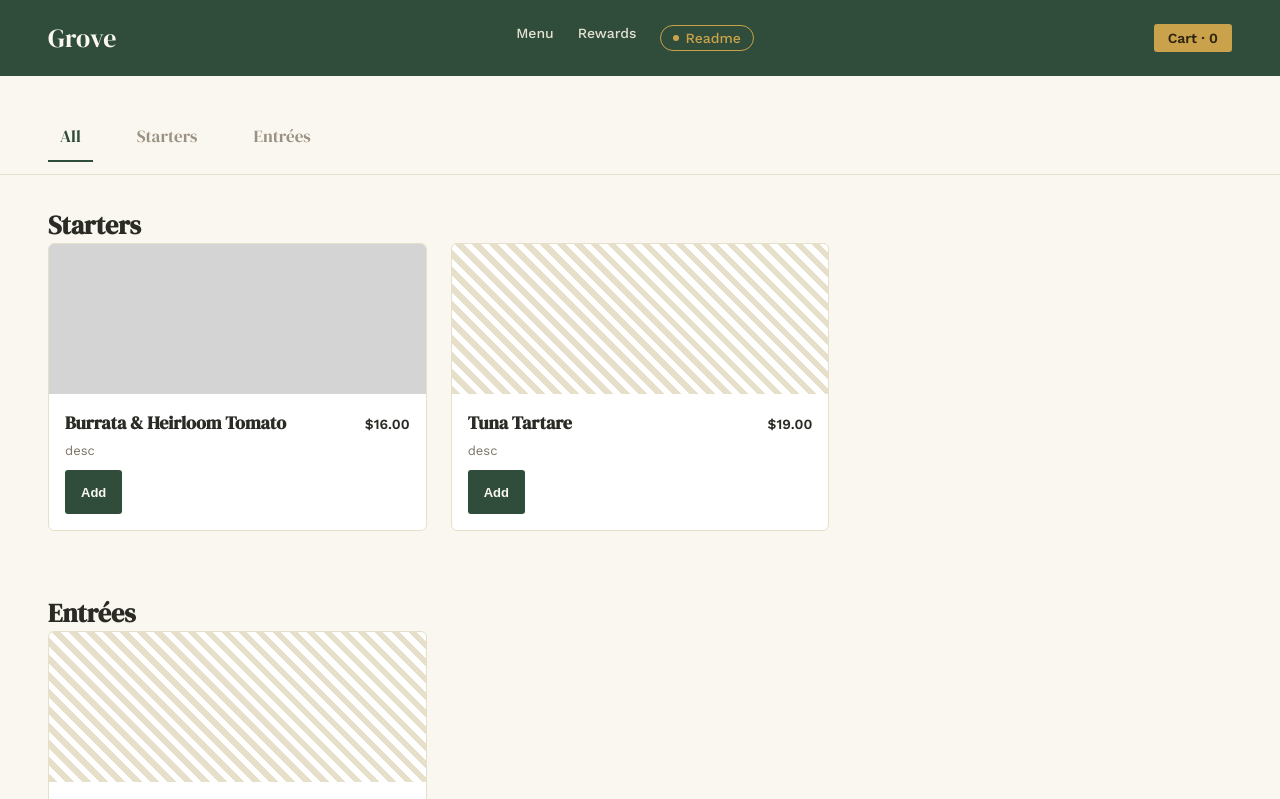
Test: MenuView › narrows to a flat single-category grid when a category tab is selected, with no headings
Step 1. Click the button with class "tab" showing "Entrées" → (282, 137), box 242,112 -> 323,162
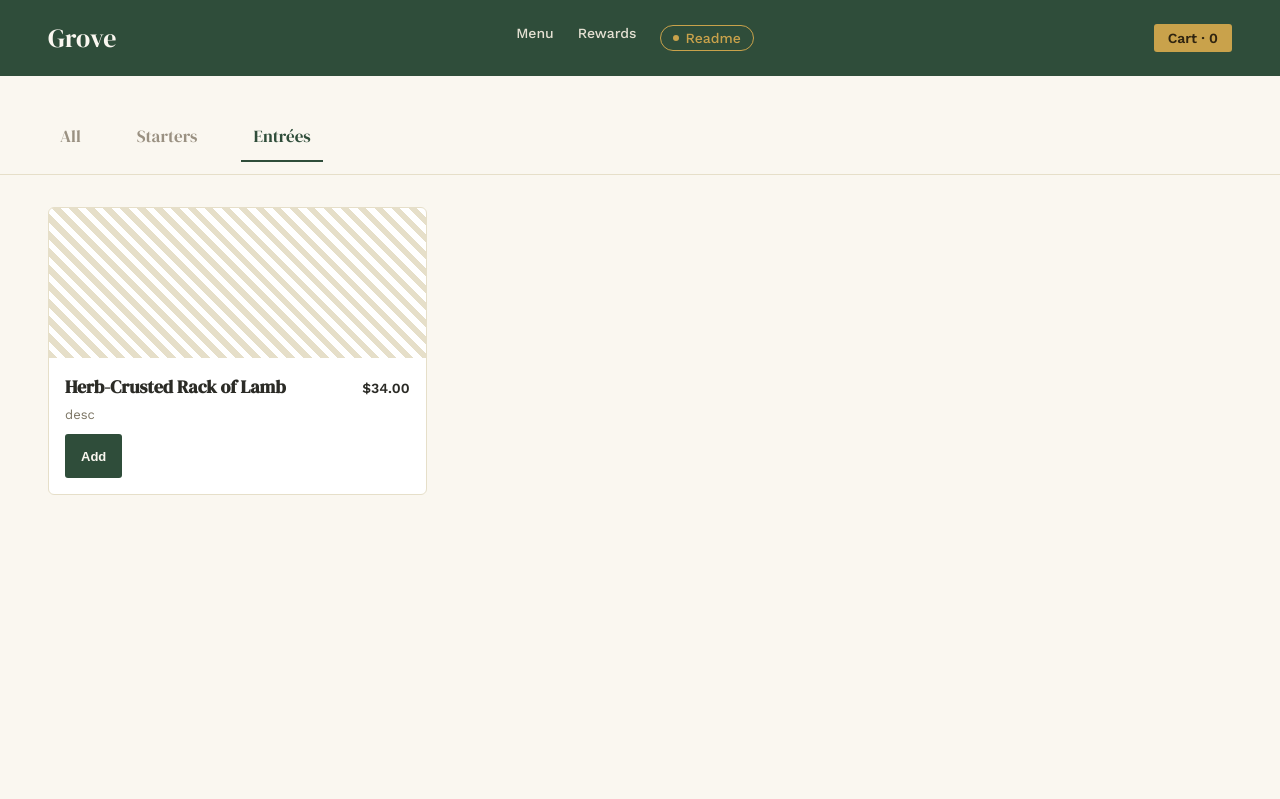
Check: the text "Herb-Crusted Rack of Lamb" is shown, box 65,374 -> 286,399
Check: the text "Burrata & Heirloom Tomato" is gone
Check: no headings with class "category-heading" are shown
